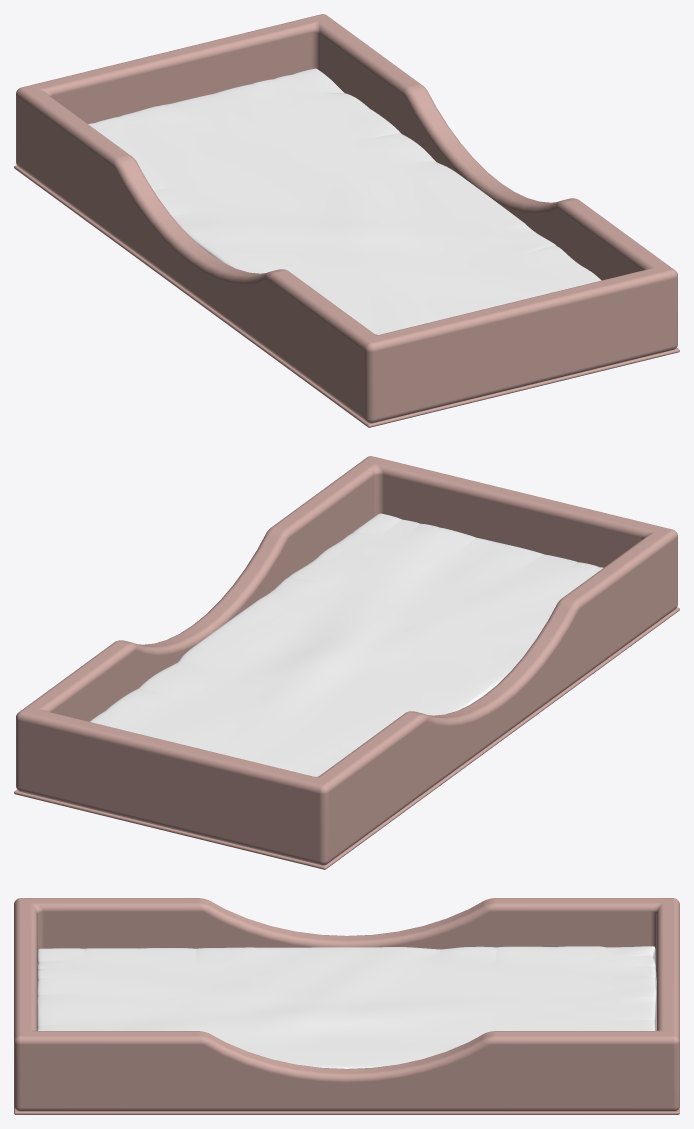
The picture shows the model from 3 angles, top to bottom: view 1: azimuth 30°, elevation 25°; view 2: azimuth 150°, elevation 25°; view 3: azimuth 270°, elevation 25°; orthographic projection. The views are drawn at different scales.
Parts seen in each view (by area): view 1: root; view 2: root; view 3: root.
Part boxes in pixels (box(x1,y1,x2,y2)): root: box(14, 14, 679, 427); root: box(14, 456, 679, 869); root: box(14, 898, 679, 1114).
Size of the model in its own units: 1.02 by 0.2555 by 2.01.
